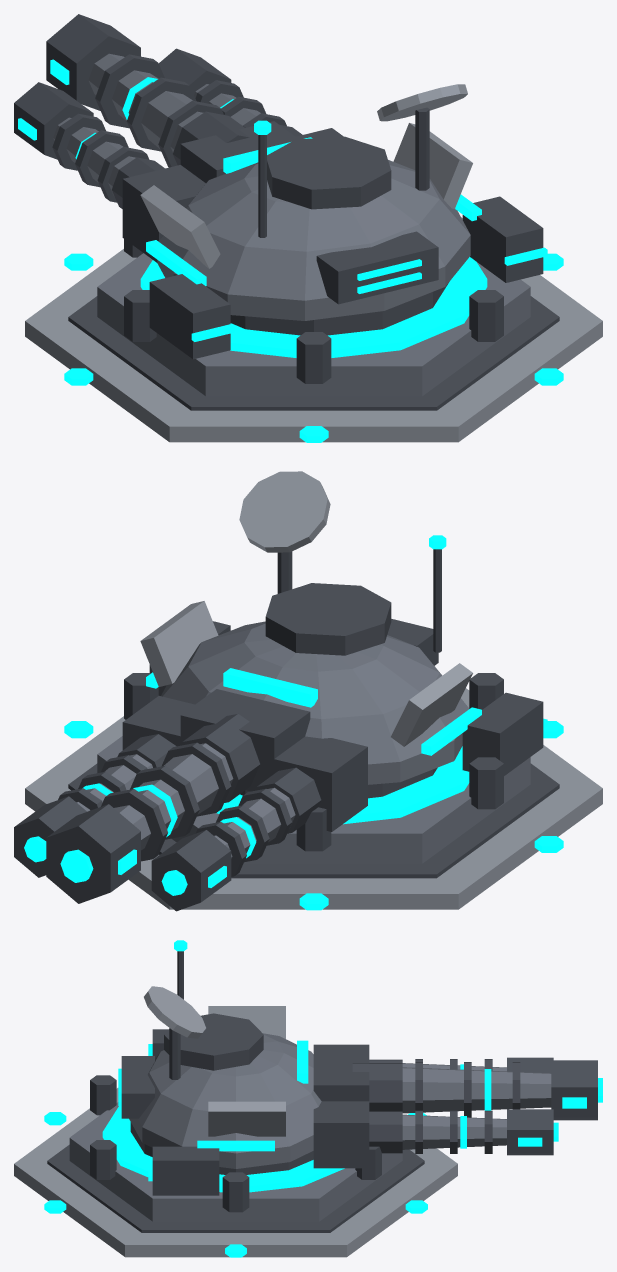
Rendered from turret_lvl5.glb.
The picture shows the model from 3 angles, top to bottom: view 1: azimuth 30°, elevation 25°; view 2: azimuth 150°, elevation 25°; view 3: azimuth 270°, elevation 25°; orthographic projection. The views are drawn at different scales.
Visible parts, largest first — view 1: BaseTier_61, Dome_05, Base_01, BaseSkirt_02, Cupola_60, Neon_BaseRing_03, BackVent_43, SaddleBag_56, SaddleBag_58, MuzzleBrake_36, BarrelMount_07, Pivot_04 (+25 smaller); view 2: Dome_05, BaseTier_61, Base_01, Cupola_60, BaseSkirt_02, MuzzleBrake_36, RadarDish_69, BarrelMount_07, BarrelMount_29, SaddleBag_56, MuzzleBrake_14, ArmorPlate_47 (+27 smaller); view 3: BaseTier_61, Dome_05, Base_01, BaseSkirt_02, BarrelTube_31, BarrelMount_18, Cupola_60, SaddleBag_58, Neon_BaseRing_03, BarrelMount_29, ArmorPlate_47, MuzzleBrake_36 (+18 smaller).
Part boxes in pixels (x1=…): BaseTier_61: x1=25, y1=217, x2=602, y2=442; Dome_05: x1=157, y1=160, x2=470, y2=320; Base_01: x1=97, y1=253, x2=530, y2=396; BaseSkirt_02: x1=68, y1=296, x2=559, y2=410; Cupola_60: x1=267, y1=136, x2=391, y2=209; Neon_BaseRing_03: x1=140, y1=257, x2=487, y2=357; BackVent_43: x1=316, y1=231, x2=438, y2=304; SaddleBag_56: x1=149, y1=274, x2=230, y2=359; SaddleBag_58: x1=462, y1=196, x2=543, y2=282; MuzzleBrake_36: x1=46, y1=14, x2=140, y2=110; BarrelMount_07: x1=122, y1=165, x2=205, y2=262; Pivot_04: x1=230, y1=282, x2=448, y2=335; Dome_05: x1=161, y1=621, x2=469, y2=784; BaseTier_61: x1=25, y1=688, x2=602, y2=909; Base_01: x1=97, y1=736, x2=530, y2=863; Cupola_60: x1=265, y1=583, x2=391, y2=655; BaseSkirt_02: x1=68, y1=763, x2=559, y2=878; MuzzleBrake_36: x1=46, y1=804, x2=140, y2=903; RadarDish_69: x1=239, y1=471, x2=330, y2=552; BarrelMount_07: x1=260, y1=736, x2=367, y2=831; BarrelMount_29: x1=180, y1=689, x2=310, y2=791; SaddleBag_56: x1=462, y1=692, x2=543, y2=775; MuzzleBrake_14: x1=151, y1=830, x2=231, y2=911; ArmorPlate_47: x1=140, y1=601, x2=218, y2=686; BaseTier_61: x1=14, y1=1088, x2=457, y2=1257; Dome_05: x1=129, y1=1033, x2=321, y2=1168; Base_01: x1=69, y1=1102, x2=402, y2=1221; BaseSkirt_02: x1=47, y1=1144, x2=424, y2=1232; BarrelTube_31: x1=402, y1=1067, x2=551, y2=1113; BarrelMount_18: x1=313, y1=1101, x2=369, y2=1168; Cupola_60: x1=164, y1=1013, x2=263, y2=1070; SaddleBag_58: x1=152, y1=1146, x2=219, y2=1195; Neon_BaseRing_03: x1=102, y1=1106, x2=344, y2=1192; BarrelMount_29: x1=313, y1=1050, x2=369, y2=1101; ArmorPlate_47: x1=208, y1=1101, x2=285, y2=1136; MuzzleBrake_36: x1=551, y1=1060, x2=597, y2=1120.
Size of the model in its own units: 5.11 by 2.72 by 6.9.
